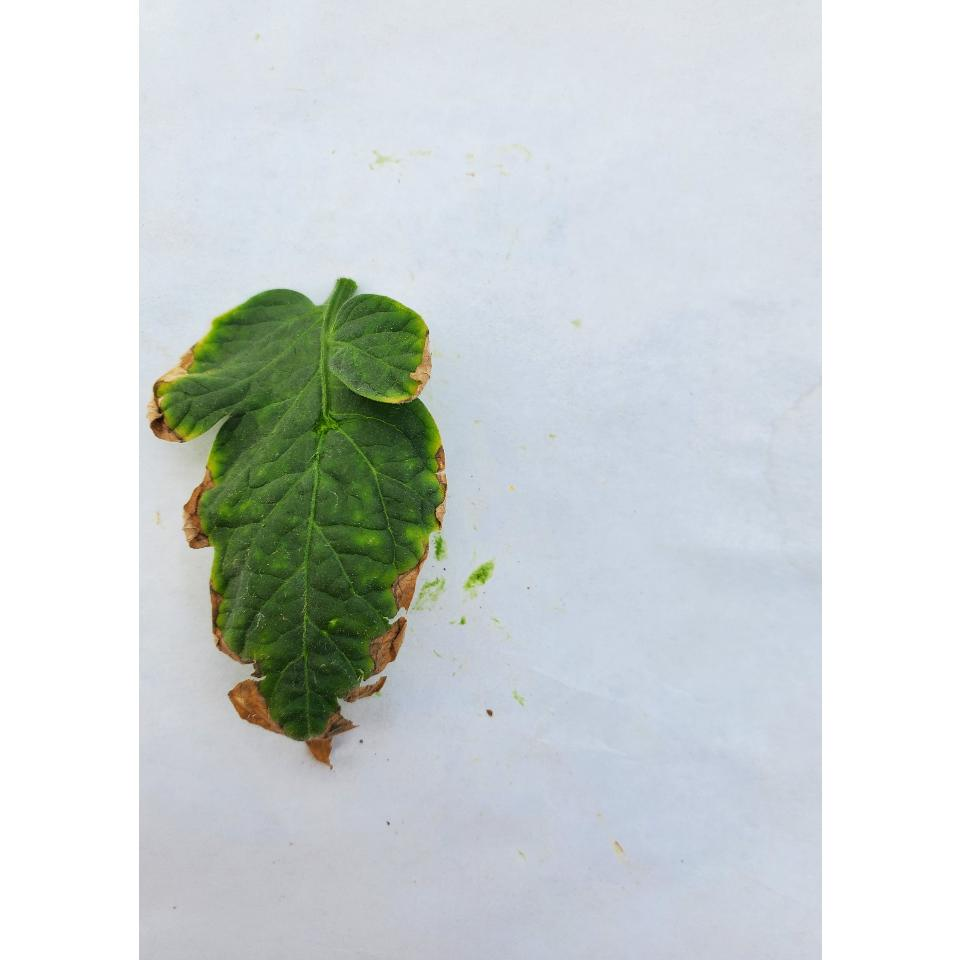tomato_bacterial_blight: (166, 287, 448, 766)
